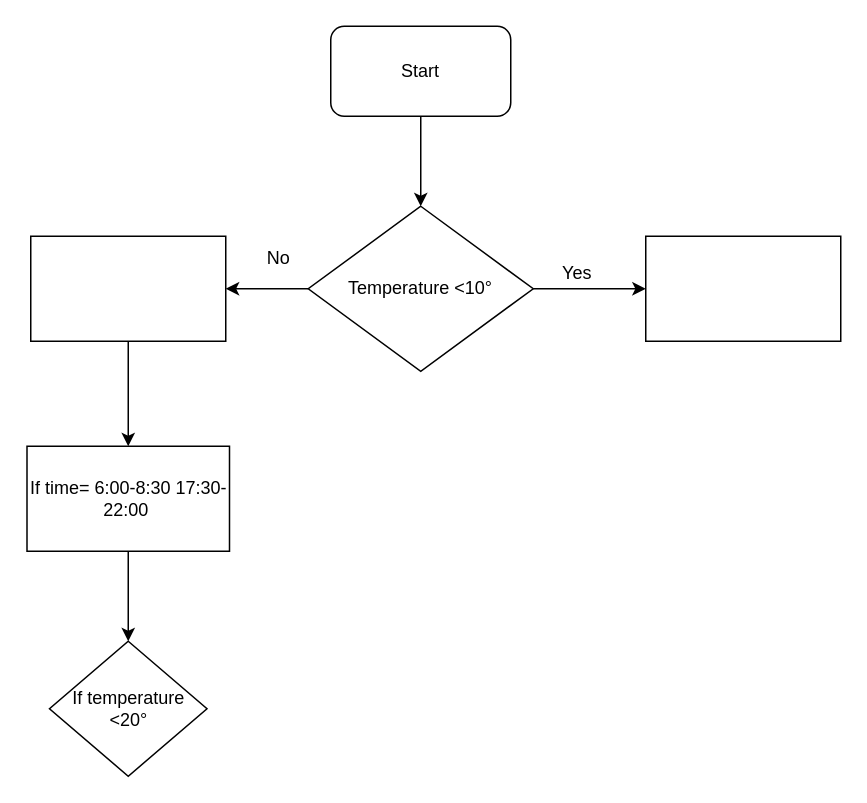
This 867x803 diagram has some shape labels left out. Here are the shapes that lost their labels. From the top down, the centre of each, then its label:
(127,288): During to week
(742,288): Switch on the boiler
